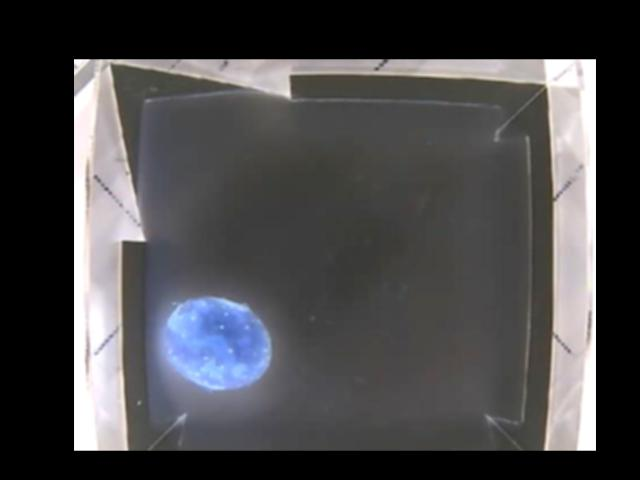Potato: (165, 294, 270, 387)
